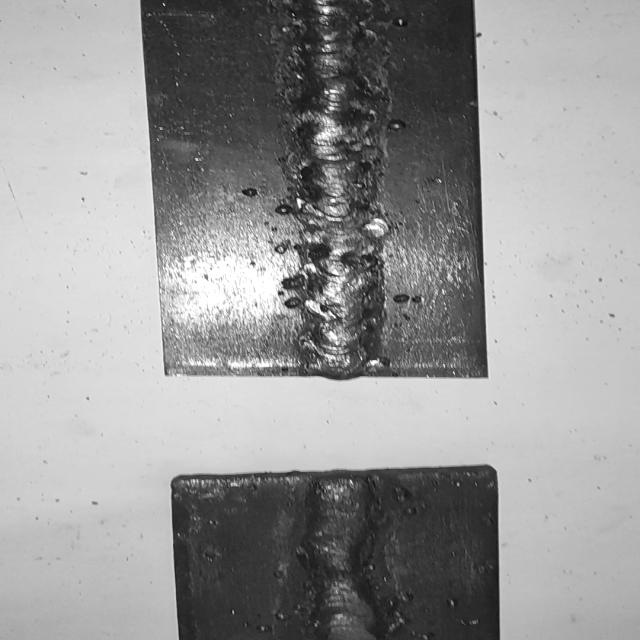Good Weld: (298, 0, 374, 372), (294, 479, 384, 640)
